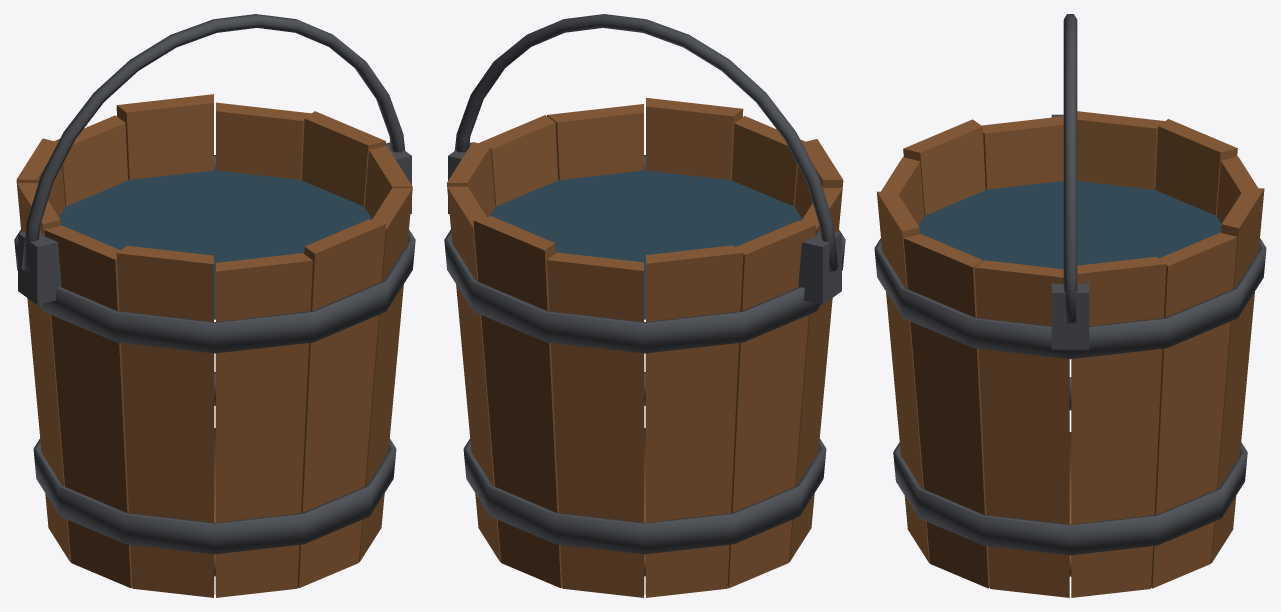
The model's file is water-bucket_final.glb.
3 renders of one model, left to right at view 1: azimuth 30°, elevation 25°; view 2: azimuth 150°, elevation 25°; view 3: azimuth 270°, elevation 25°, orthographic. The views are drawn at different scales.
Parts seen in each view (by area): view 1: SM_WaterBucket_Staves, SM_WaterBucket, SM_WaterBucket_Water, SM_WaterBucket_Handle; view 2: SM_WaterBucket_Staves, SM_WaterBucket, SM_WaterBucket_Water, SM_WaterBucket_Handle; view 3: SM_WaterBucket_Staves, SM_WaterBucket, SM_WaterBucket_Water, SM_WaterBucket_Handle.
Boxes of the visible parts, x1,y1,x2,y2 form: SM_WaterBucket_Staves: (16, 94, 412, 597); SM_WaterBucket: (14, 142, 415, 554); SM_WaterBucket_Water: (59, 167, 372, 319); SM_WaterBucket_Handle: (21, 14, 405, 271); SM_WaterBucket_Staves: (447, 98, 843, 597); SM_WaterBucket: (444, 142, 845, 554); SM_WaterBucket_Water: (490, 167, 801, 319); SM_WaterBucket_Handle: (454, 14, 838, 271); SM_WaterBucket_Staves: (877, 111, 1264, 597); SM_WaterBucket: (874, 114, 1266, 555); SM_WaterBucket_Water: (918, 181, 1221, 269); SM_WaterBucket_Handle: (1063, 14, 1077, 323).
Size of the model in its own units: 0.3452 by 0.4368 by 0.3133.
